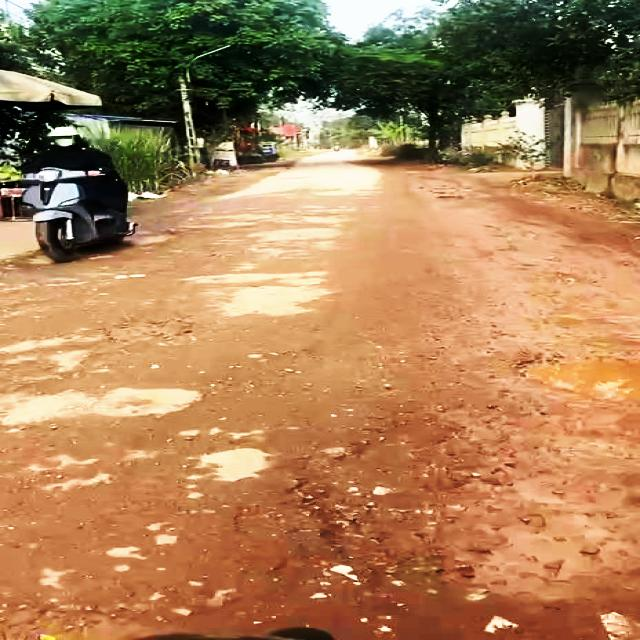pothole: (509, 347, 640, 407)
